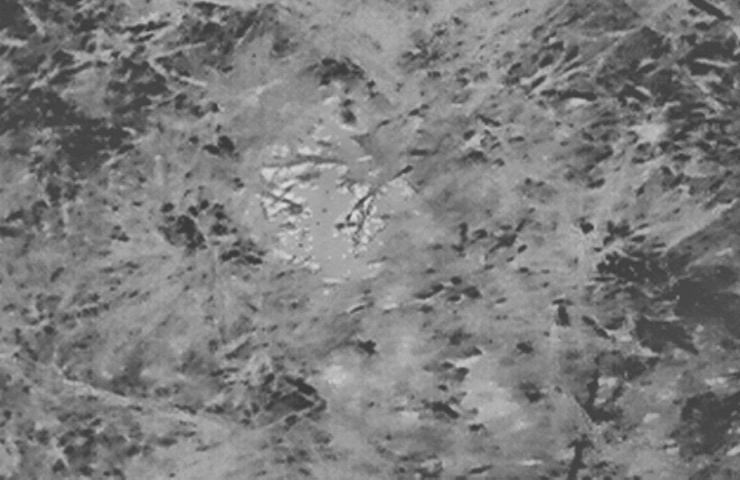landmines: (242, 119, 414, 293)
